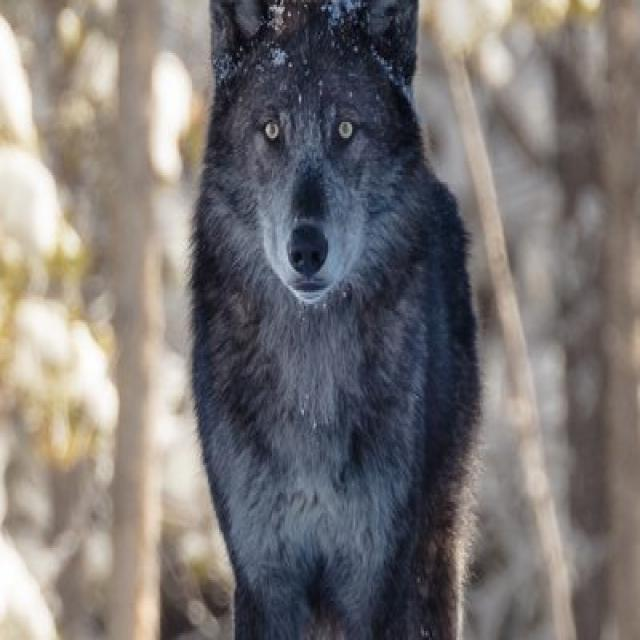wolf: (160, 0, 536, 640)
